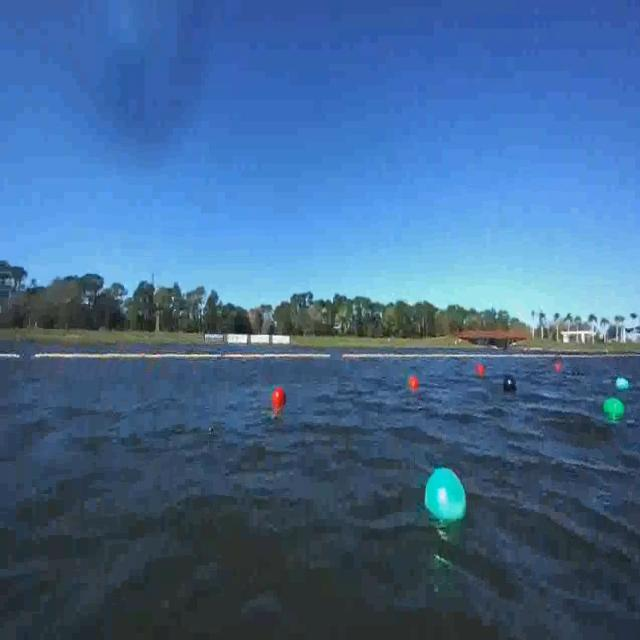black-buoy: (502, 374, 516, 394)
green-buoy: (424, 468, 468, 526), (604, 399, 627, 422), (616, 378, 631, 392)
red-buoy: (274, 386, 286, 407), (410, 376, 420, 392), (478, 363, 486, 376)
